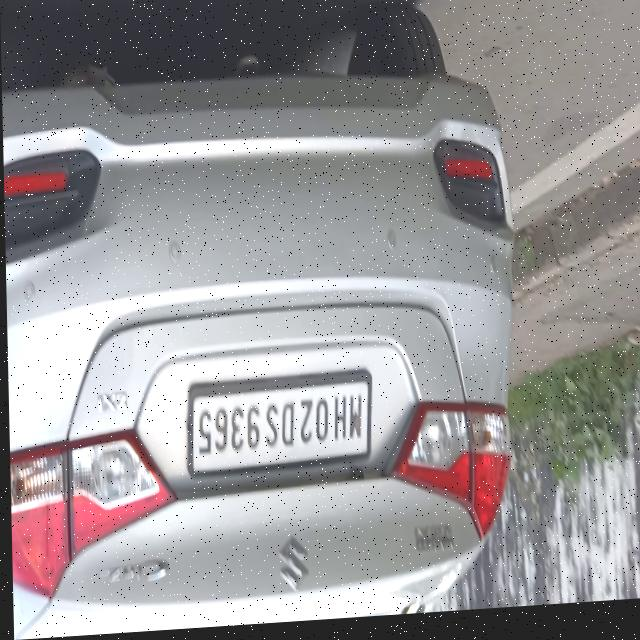plate: (184, 375, 372, 482)
